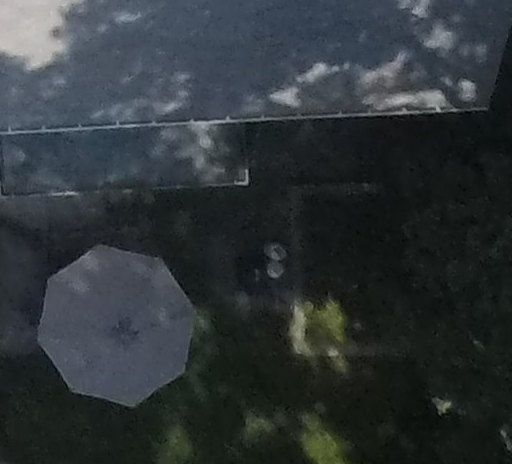umbrella: (37, 239, 208, 417)
